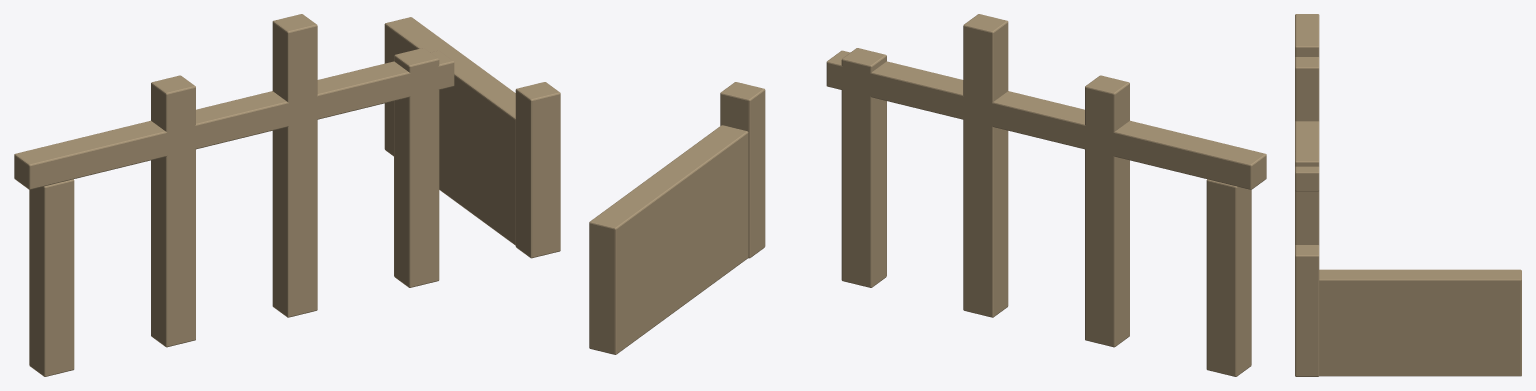
File: ruins.glb
3 views of the same model, side by side, from view 1: azimuth 30°, elevation 25°; view 2: azimuth 150°, elevation 25°; view 3: azimuth 270°, elevation 25° (orthographic). The views are drawn at different scales.
Visible parts, largest first — view 1: ruins; view 2: ruins; view 3: ruins.
Part boxes in pixels (box(x1,y1,x2,y2)): ruins: box(14, 14, 560, 376); ruins: box(589, 14, 1266, 376); ruins: box(1295, 14, 1521, 376).
Bounding box in the file's own units: 8.75 × 4.5 × 4.22.
